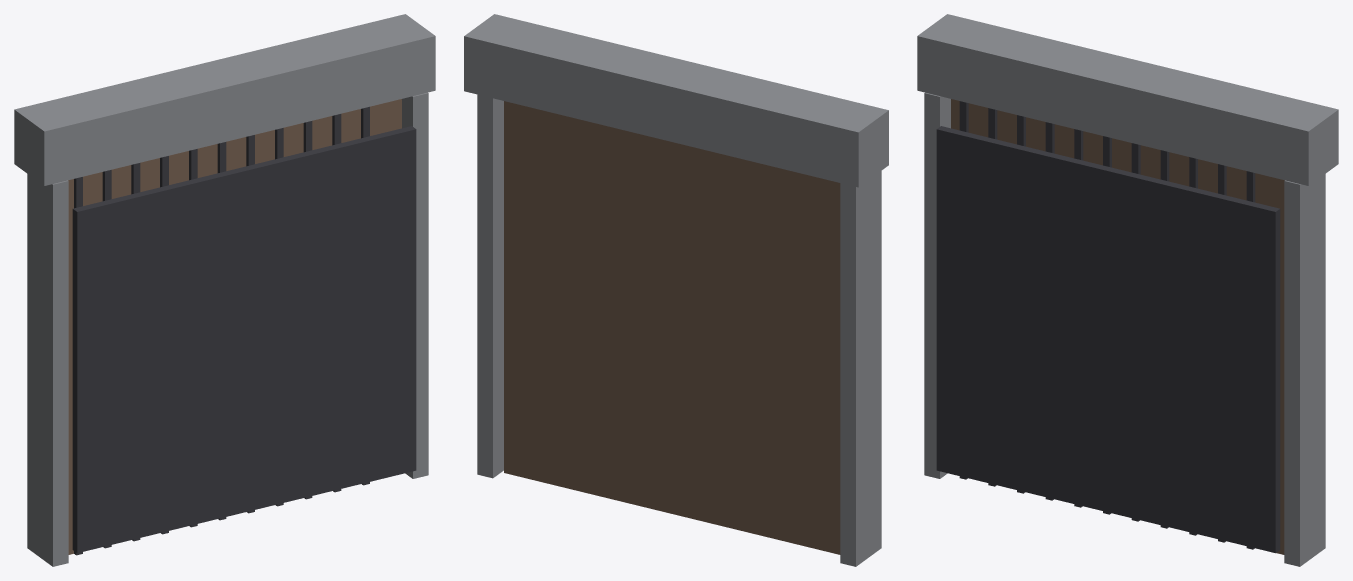
The model's file is prop_shutter_wood.glb.
The picture shows the model from 3 angles, left to right: view 1: azimuth 30°, elevation 25°; view 2: azimuth 150°, elevation 25°; view 3: azimuth 330°, elevation 25°; orthographic projection.
Parts seen in each view (by area): view 1: shutter_wood; view 2: shutter_wood; view 3: shutter_wood.
Part boxes in pixels (bbox=[...]): shutter_wood: bbox=[14, 14, 435, 566]; shutter_wood: bbox=[464, 14, 888, 566]; shutter_wood: bbox=[917, 14, 1338, 566].
Bounding box in the file's own units: 3 × 3.2 × 0.49.
